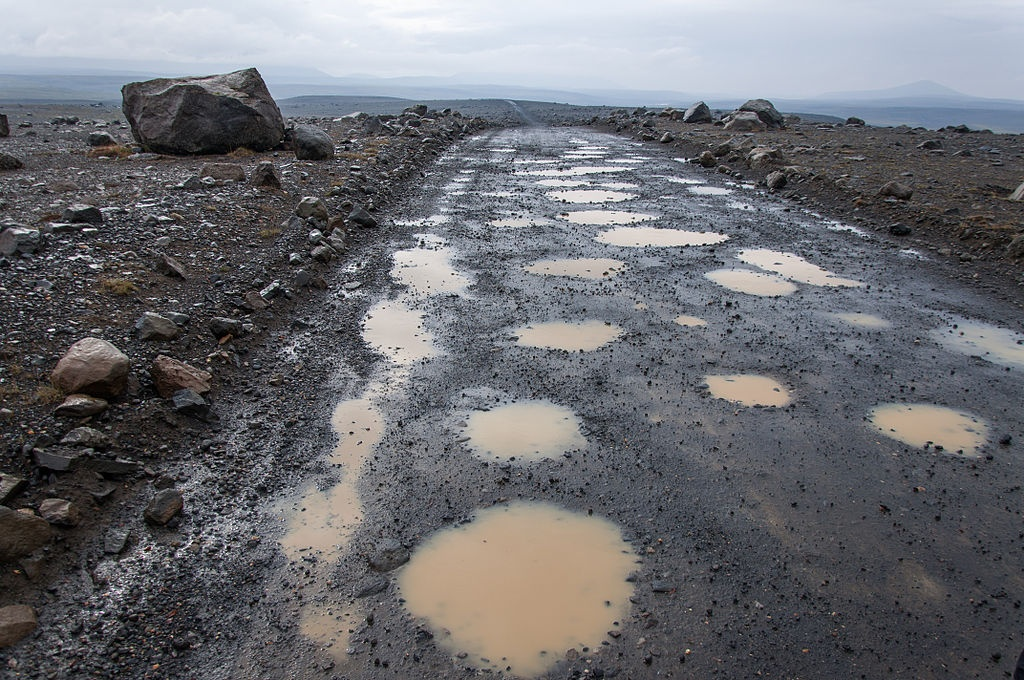pothole: (374, 446, 799, 673), (274, 277, 570, 452), (597, 180, 900, 301), (494, 206, 701, 356), (638, 316, 847, 447), (462, 369, 664, 495), (845, 343, 985, 493)
